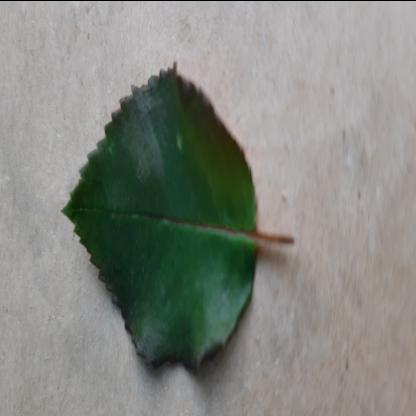powdery-mildew: (61, 55, 261, 376)
